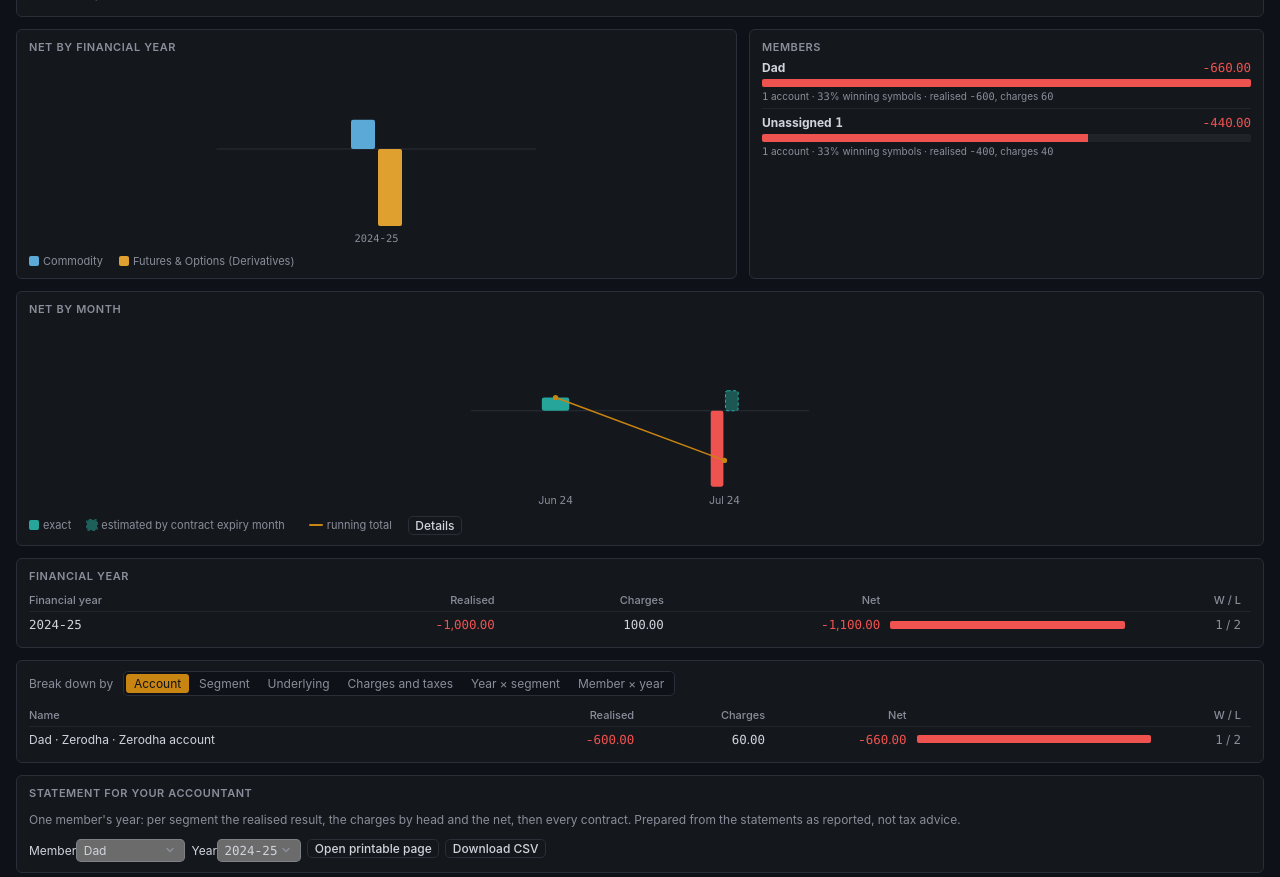
Test: the break-down tabs switch what is shown, including the year and member tables and charges known only in part
This screenshot has width=1280, height=877.
(page scrolled)
Press the mouse on the tab "Underlying" at coordinates (299, 683), box [259,674,338,693]
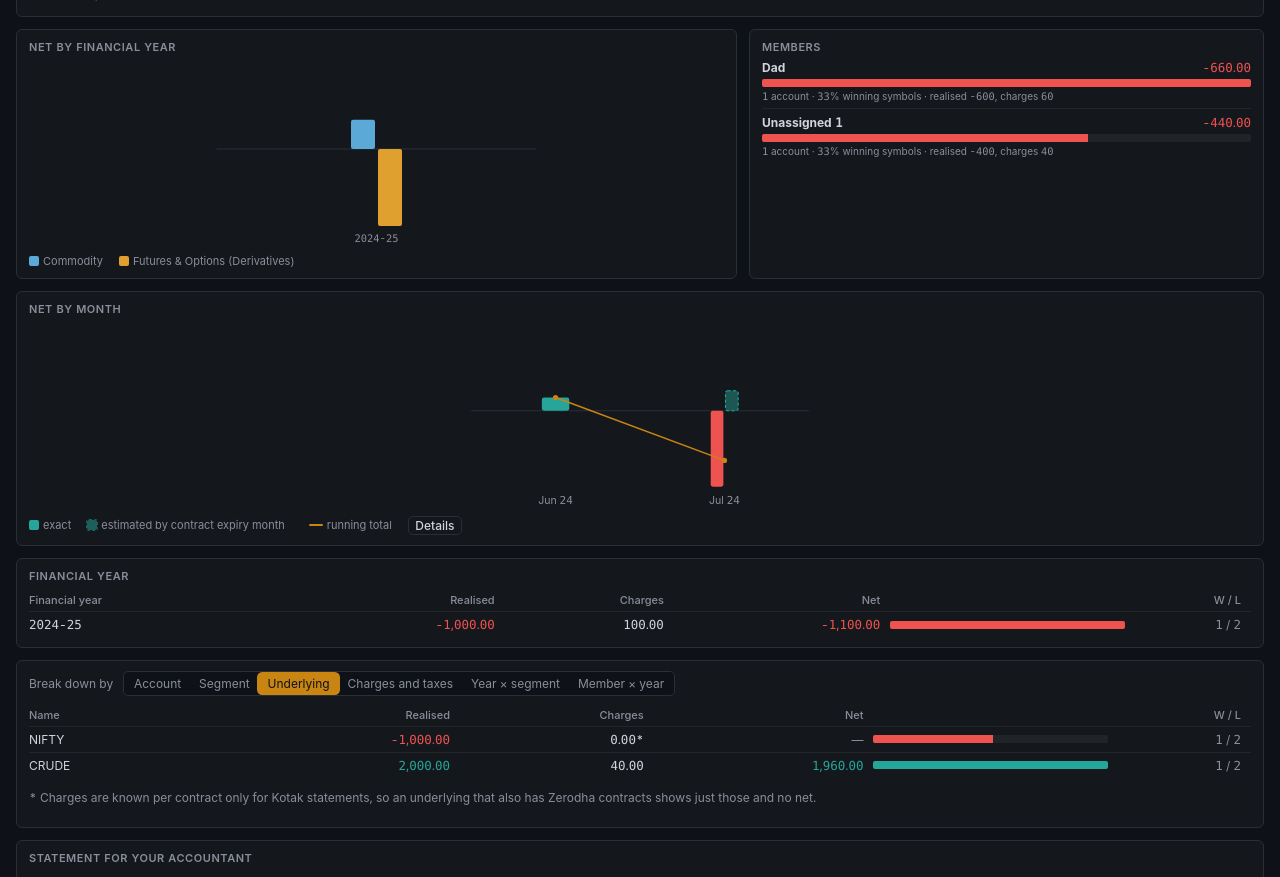
Expected: the text "—" is shown, [852,732,864,747]
Expected: the text "0.00*" is shown, [460,726,654,752]
Expected: the text "40.00" is shown, [460,752,654,778]
Press the mouse on the tab "Year × segment" at coordinates (516, 683), box [463,674,568,693]
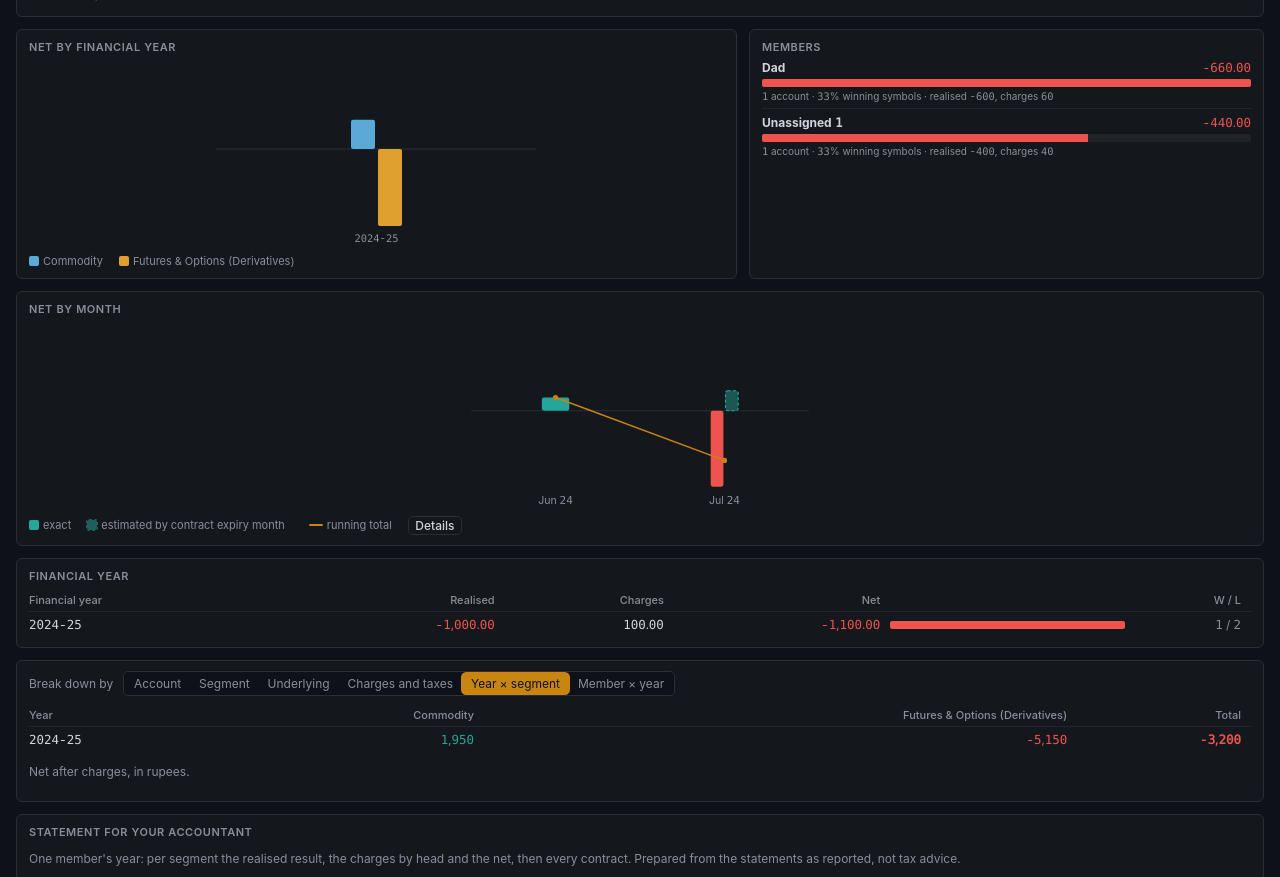
Expected: the text "-5,150" is shown, [1026,732,1067,747]
Expected: the text "1,950" is shown, [441,732,474,747]
Press the mouse on the tab "Member × year" at coordinates (621, 683), box [570,674,672,693]
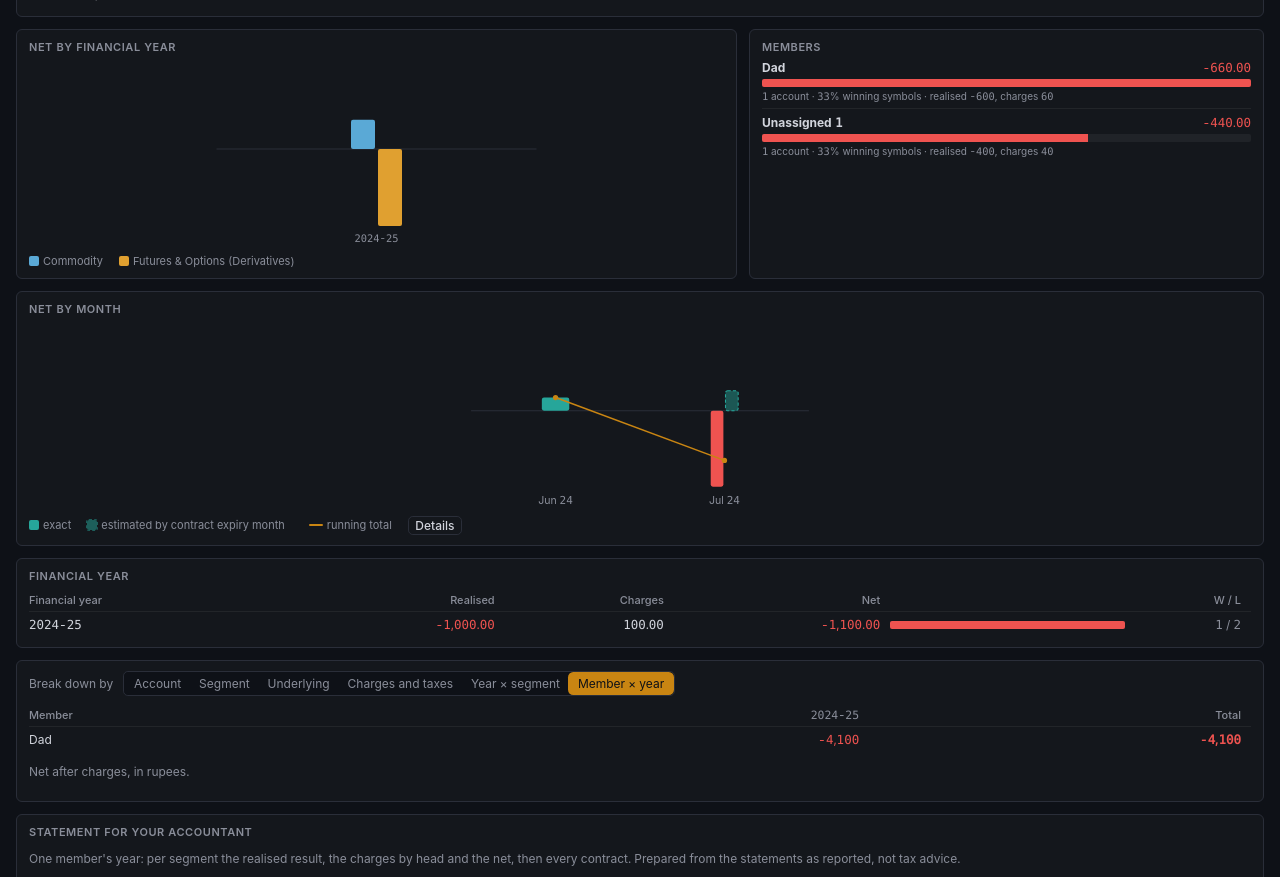
Expected: the 1st text "-4,100" is shown, [818,732,859,747]
Press the mouse on the tab "Charges and taxes" at coordinates (400, 683), box [339,674,461,693]
(page scrolled)
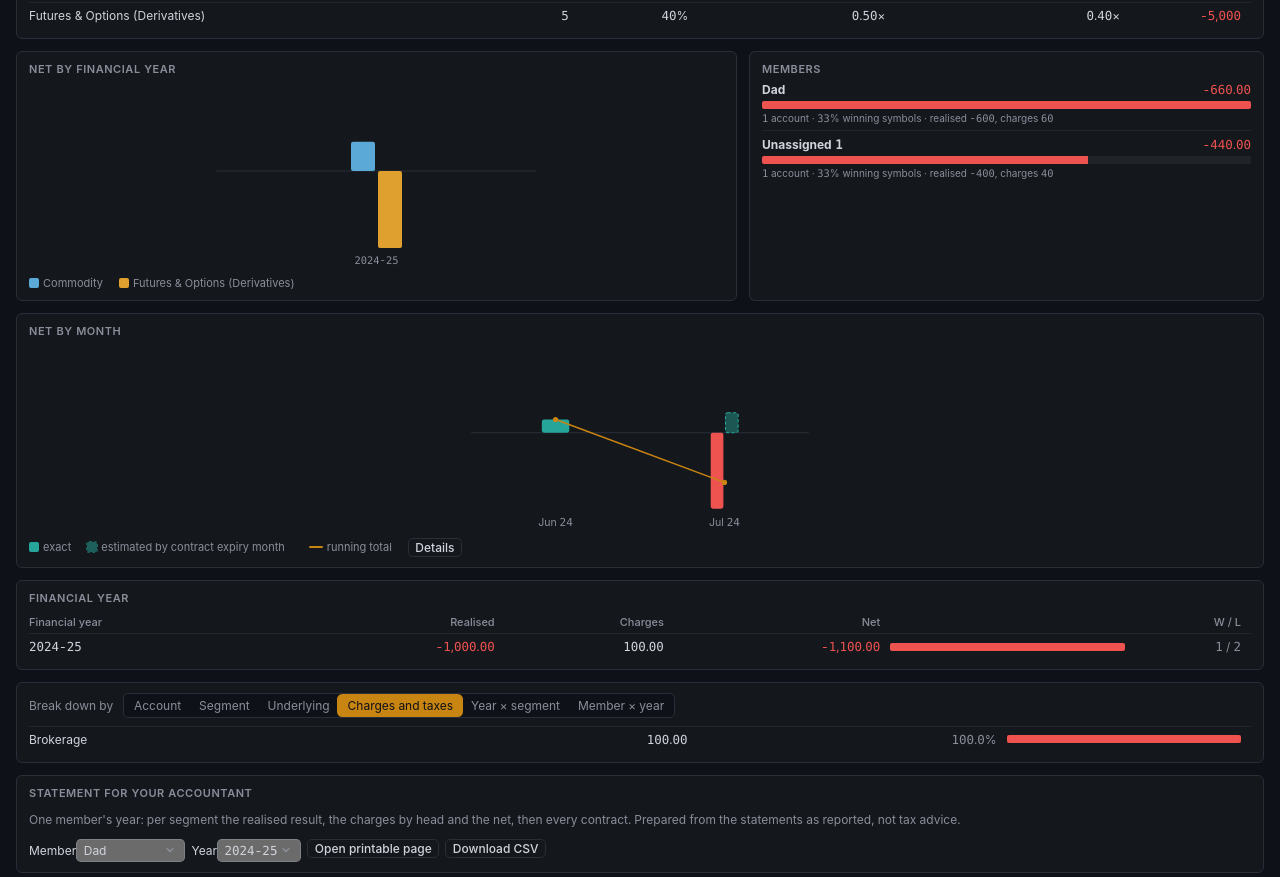
Expected: the text "Brokerage" is shown, [29,726,412,752]
